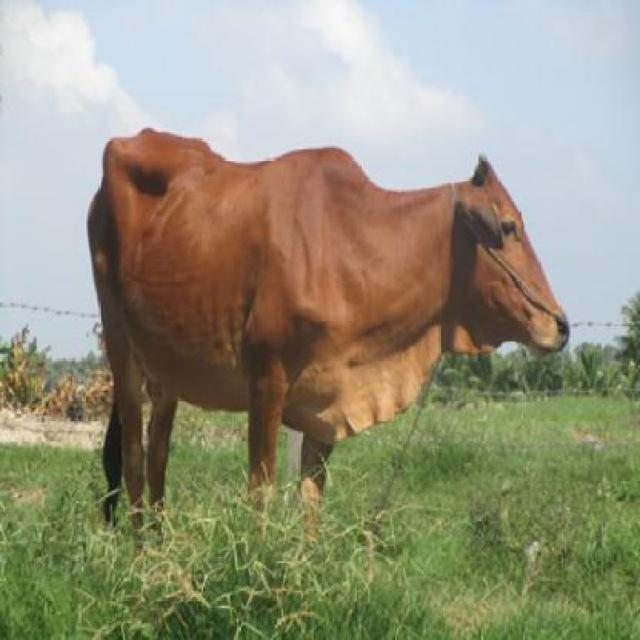Cow: (79, 123, 578, 546)
